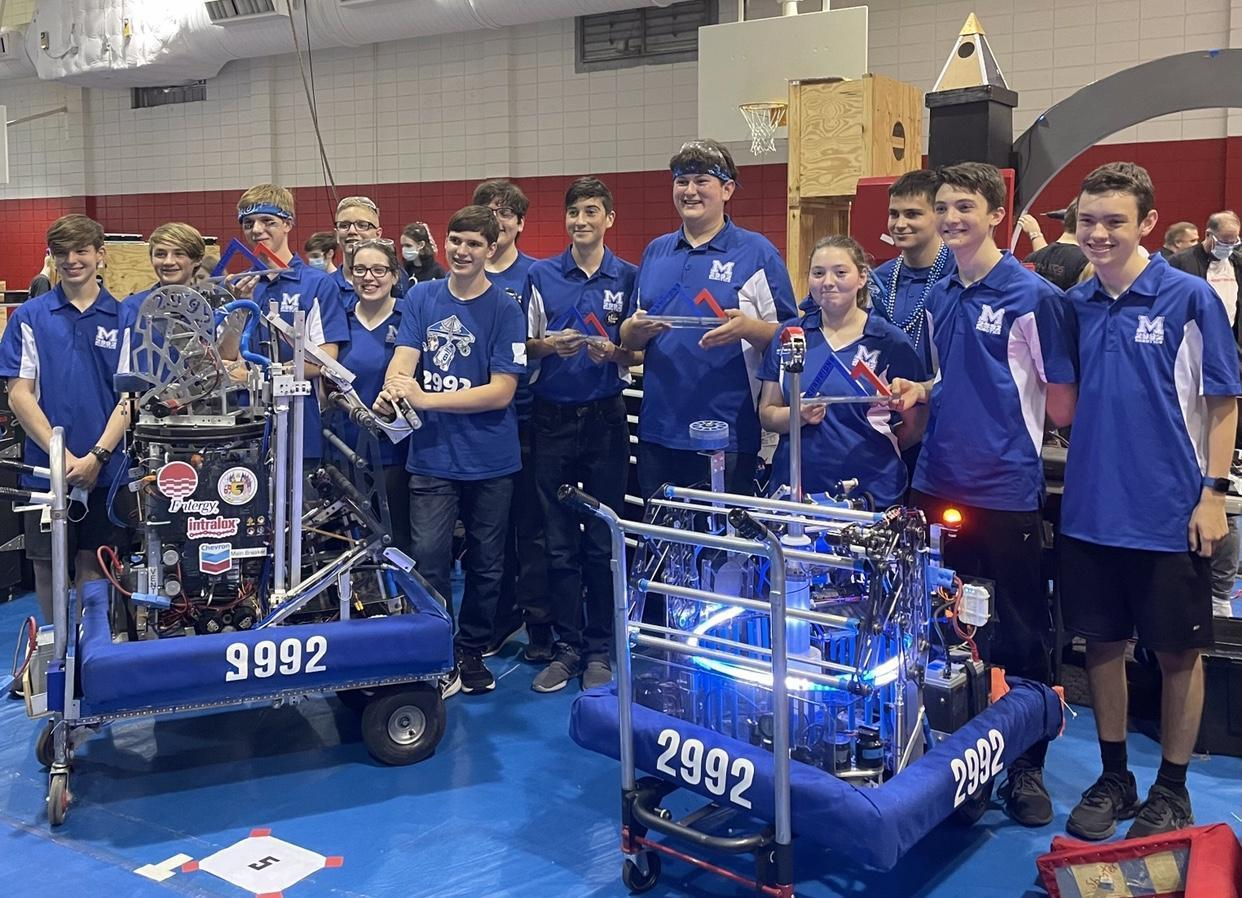robot: (569, 320, 1070, 871), (69, 270, 460, 719)
